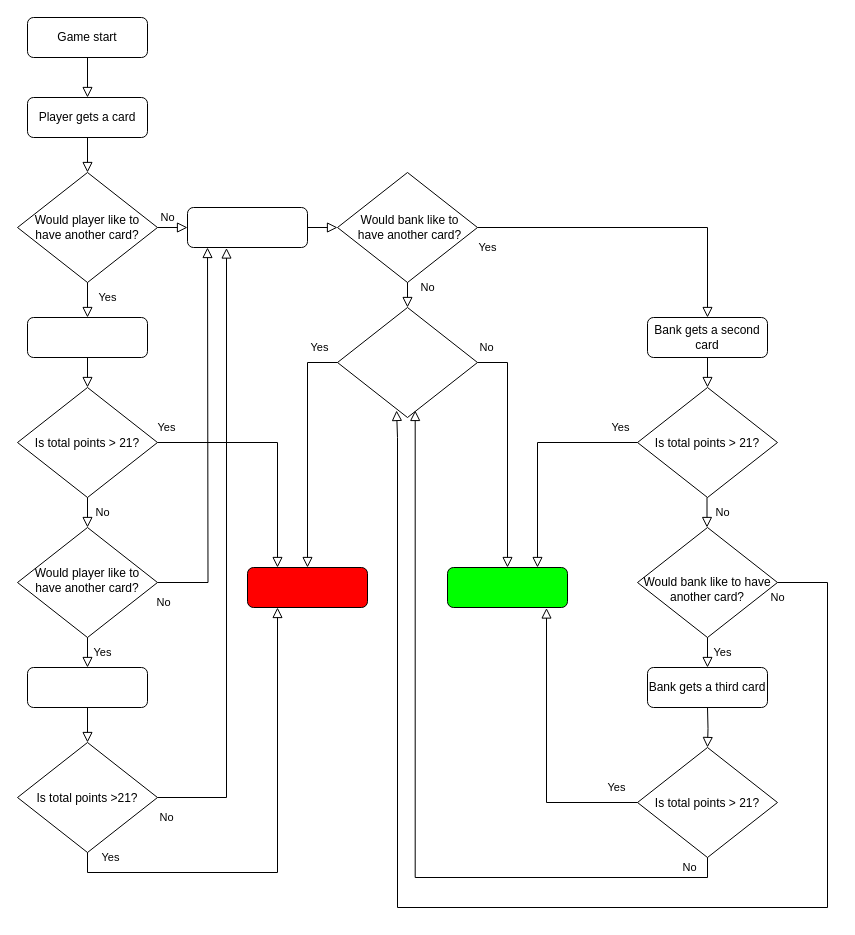
Image size: 855x935. Some labels were removed from this diagram. The centre of each missing label's shape, as x and y in pixels:
Bank gets a card: [247,227]
Bank wins: [307,587]
Is bank points >= player points?: [407,362]
Player gets a second card: [87,337]
Player gets a third card: [87,687]
Player wins: [507,587]
